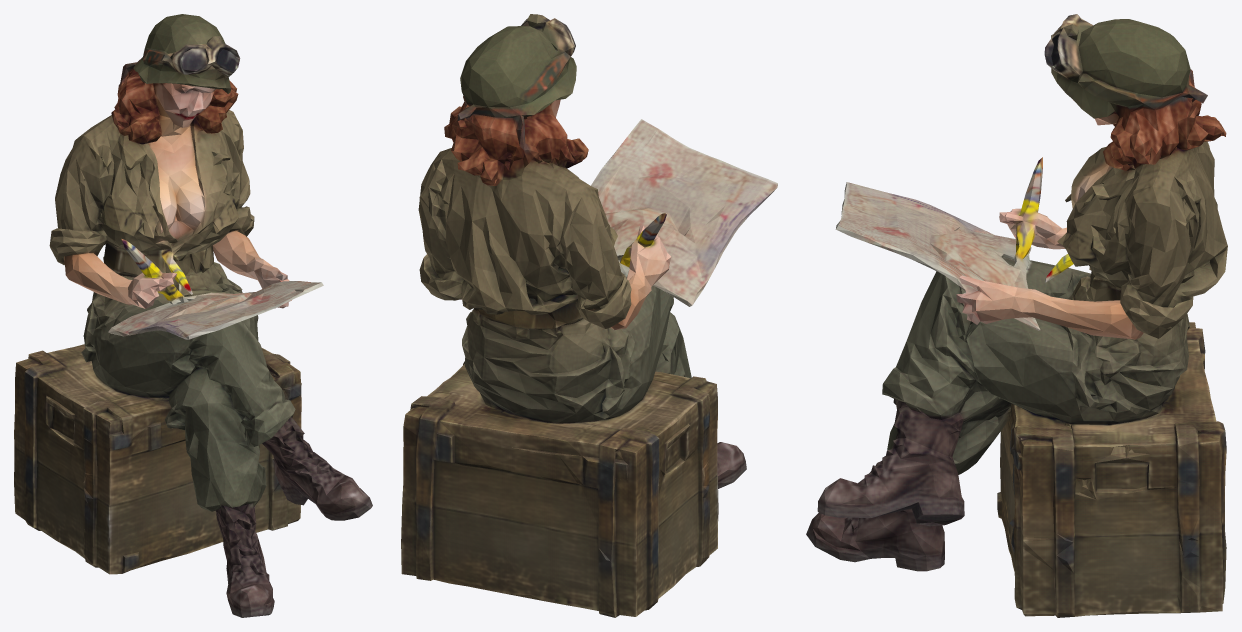
File: crew_us_gunner_4_idle.obj
3 renders of one model, left to right at view 1: azimuth 30°, elevation 25°; view 2: azimuth 150°, elevation 25°; view 3: azimuth 270°, elevation 25°, orthographic. The views are drawn at different scales.
Visible parts, largest first — view 1: crew_us_gunner_4_idle; view 2: crew_us_gunner_4_idle; view 3: crew_us_gunner_4_idle.
Part boxes in pixels (bbox=[...]): crew_us_gunner_4_idle: bbox=[14, 14, 372, 617]; crew_us_gunner_4_idle: bbox=[401, 14, 777, 617]; crew_us_gunner_4_idle: bbox=[806, 14, 1227, 617].
Size of the model in its own units: 0.665 by 1.42 by 0.9679.
Materials: 1 (1 with a texture image).
